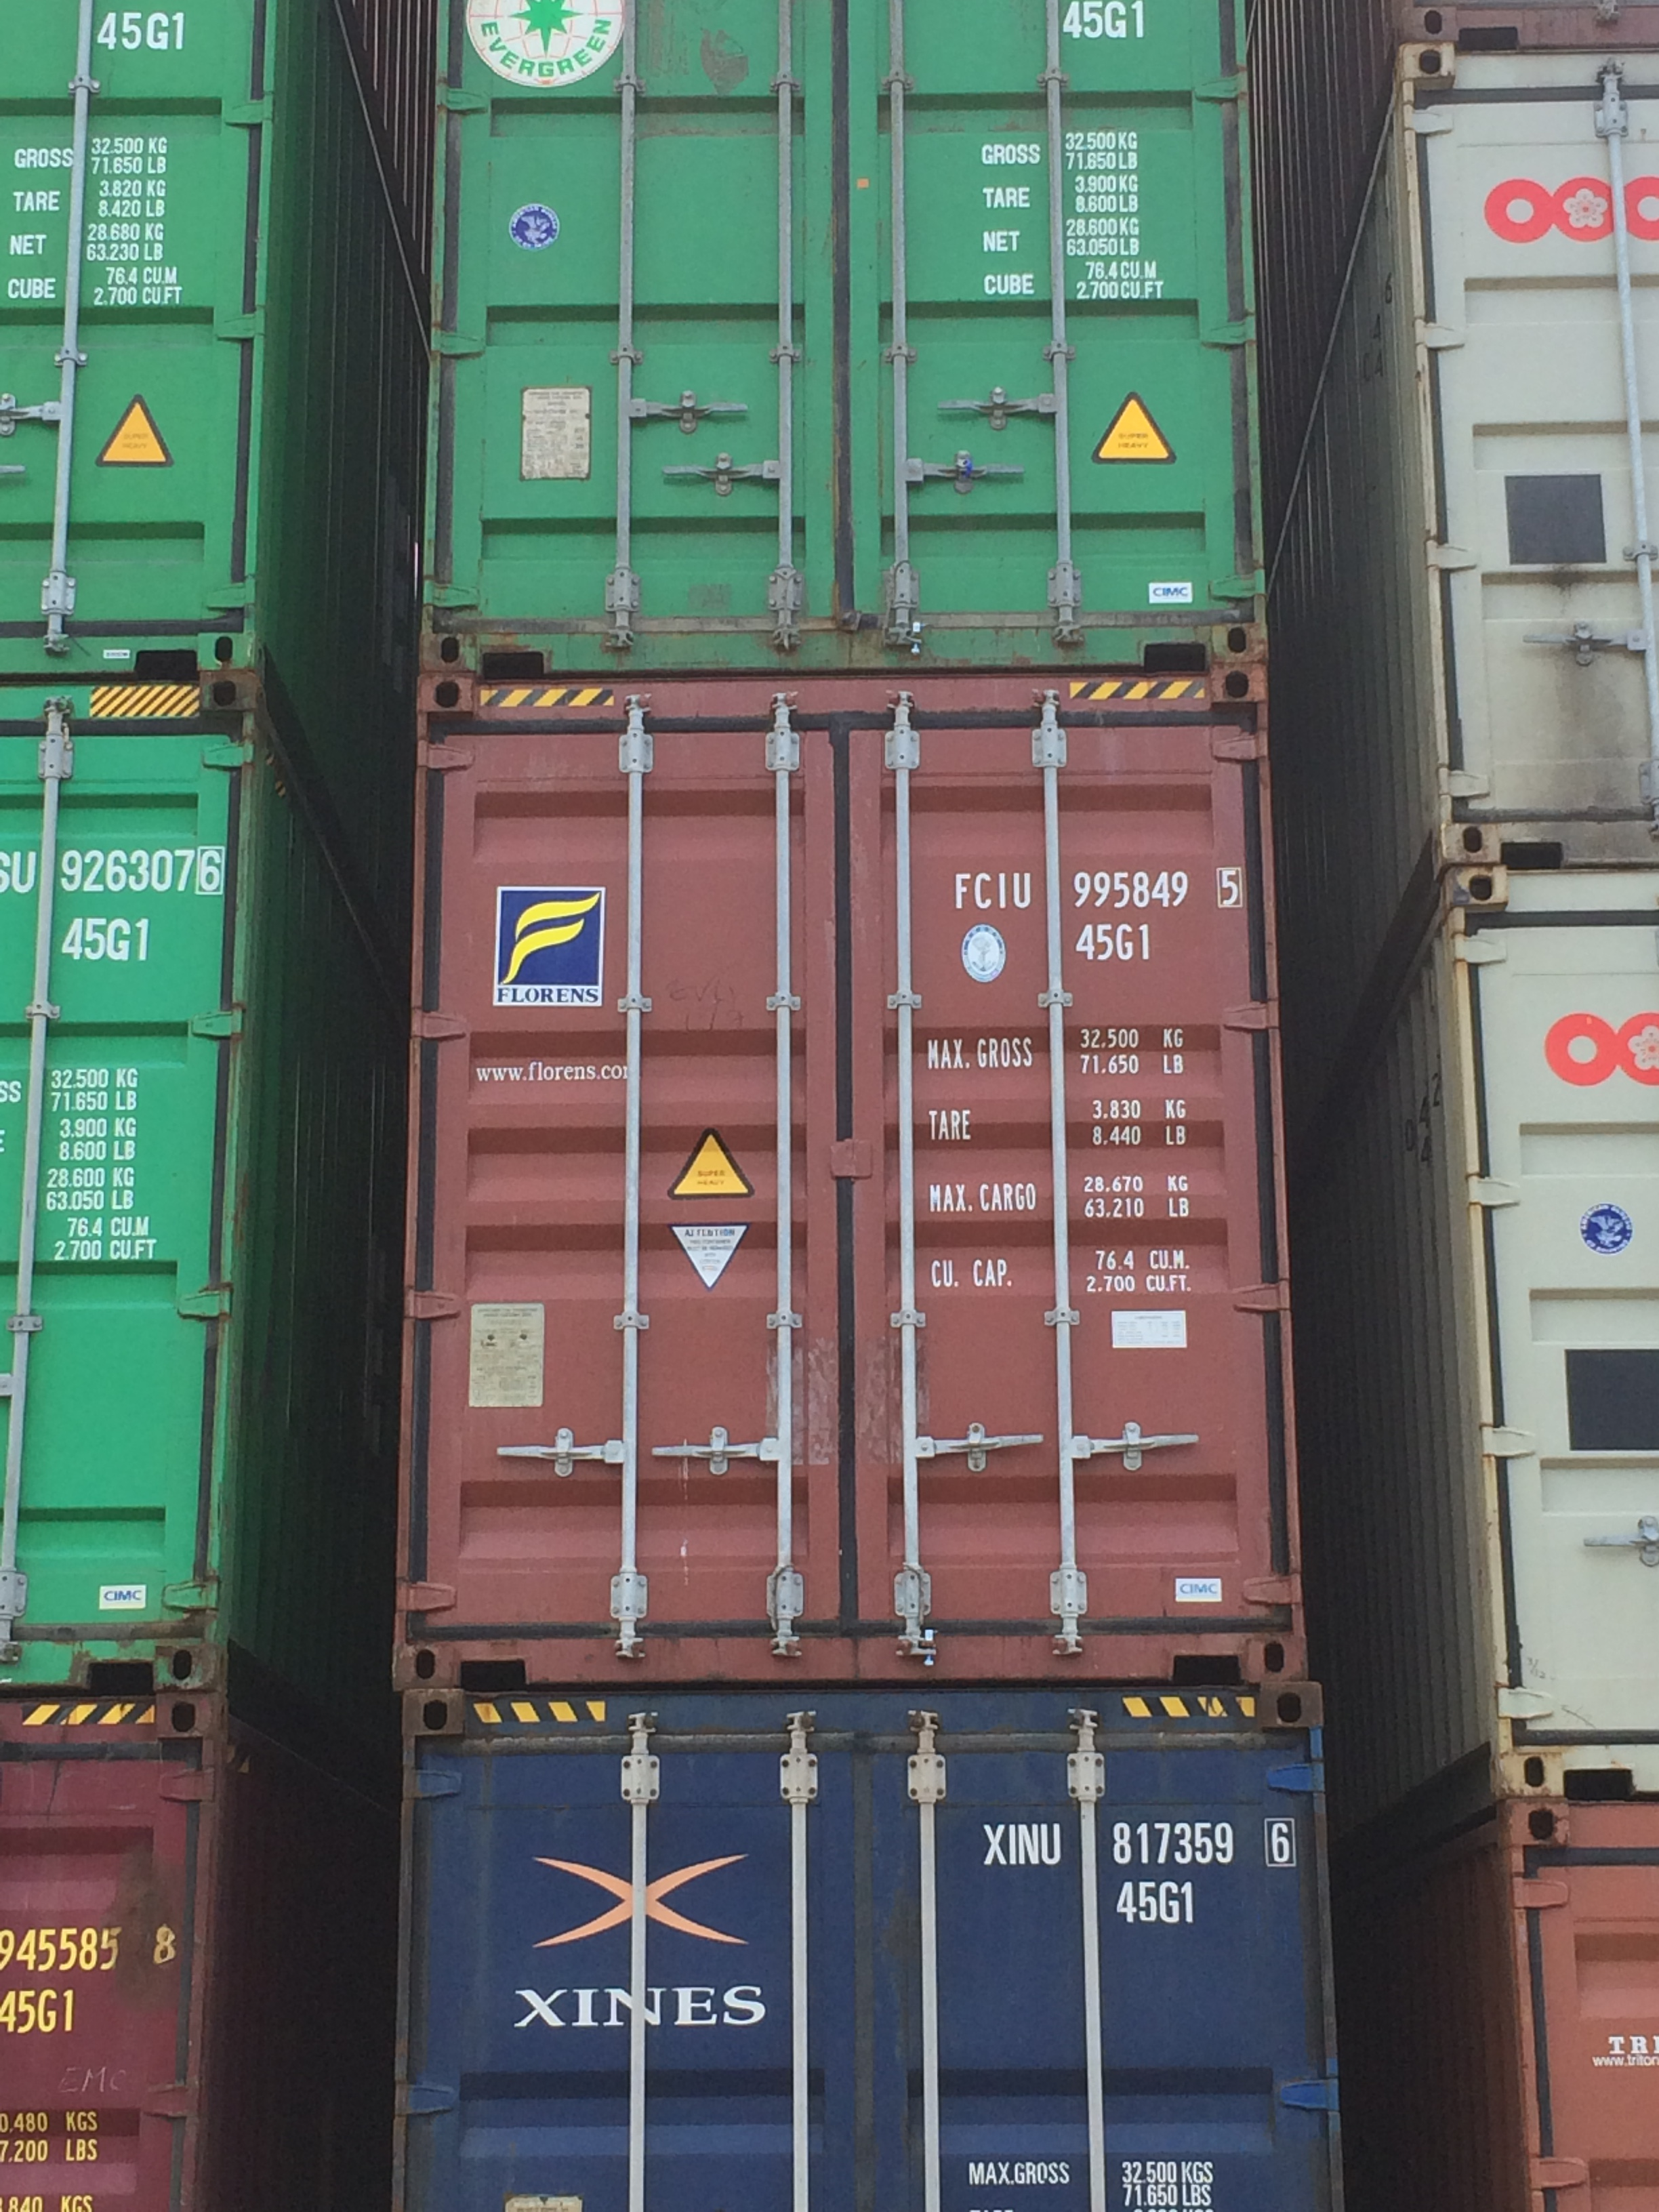container_door: (397, 658, 1300, 1695), (422, 0, 1276, 665), (403, 1688, 1335, 2212)
